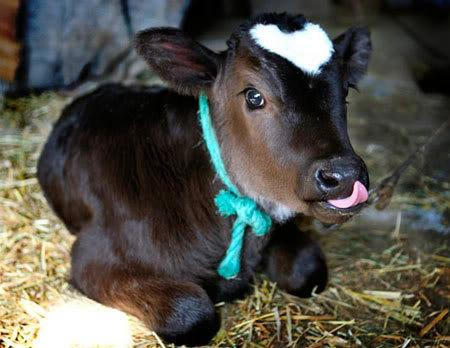muzzles: (291, 149, 374, 227)
